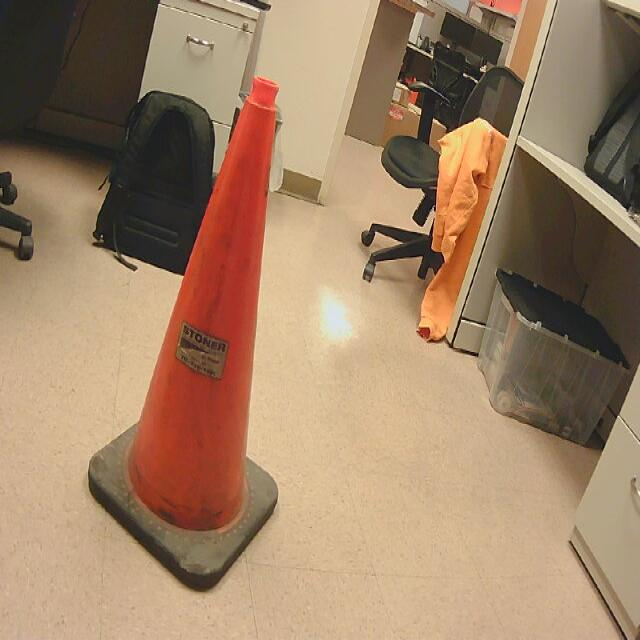traffic cone: (89, 77, 282, 594)
